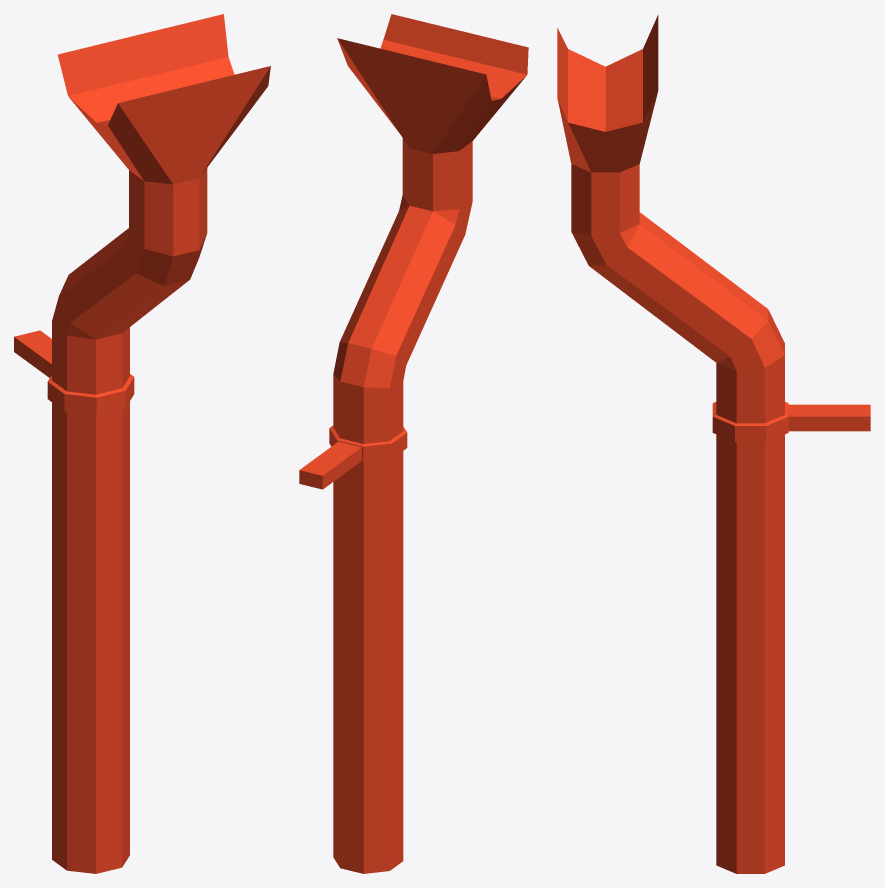
File: SM_Gutter_Pipe_Top_Moderate.fbx
3 views of the same model, side by side, from view 1: azimuth 30°, elevation 25°; view 2: azimuth 150°, elevation 25°; view 3: azimuth 270°, elevation 25° (orthographic). The views are drawn at different scales.
Visible parts, largest first — view 1: gutter-pipe-top-moderate; view 2: gutter-pipe-top-moderate; view 3: gutter-pipe-top-moderate.
Boxes of the visible parts, x1,y1,x2,y2 form: gutter-pipe-top-moderate: [14, 14, 270, 873]; gutter-pipe-top-moderate: [299, 14, 528, 873]; gutter-pipe-top-moderate: [557, 15, 870, 873].
Size of the model in its own units: 0.3411 by 1.68 by 0.5923.
